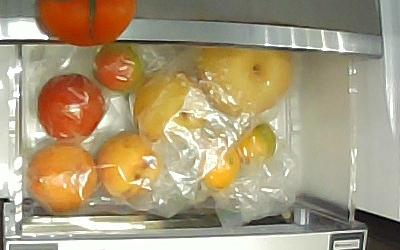peach_vinyl: (25, 141, 97, 211), (93, 128, 163, 199)
pear_vinyl: (193, 44, 294, 115), (132, 67, 213, 142)
tangerine_vinyl: (196, 144, 241, 190), (233, 123, 276, 164)
tomato_vinyl: (35, 71, 105, 140), (90, 43, 145, 92)
